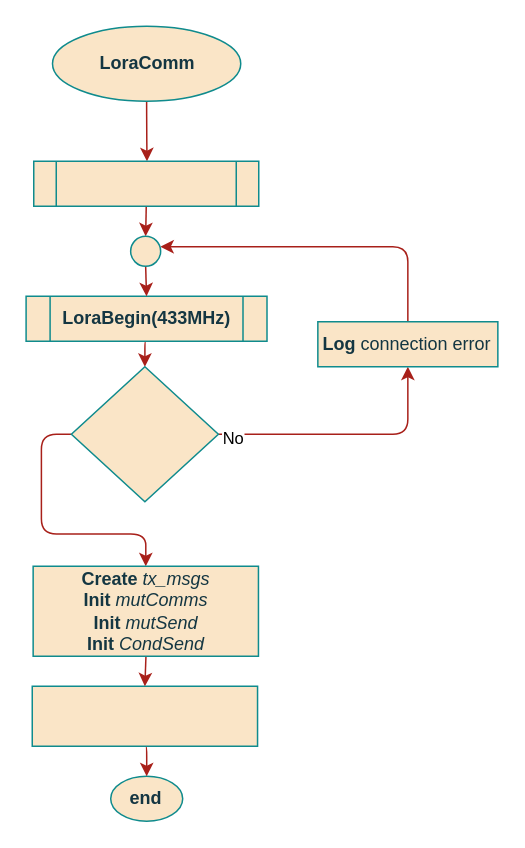
Some shapes in this 525 by 848 pixel diagram are drawn without their labels. The centre of each missing label's shape, as x and y in pixels:
"Create tSend" belongs at point (144, 715).
"Lora Initialized ?" belongs at point (144, 433).
"LoraSetPins" belongs at point (145, 183).
